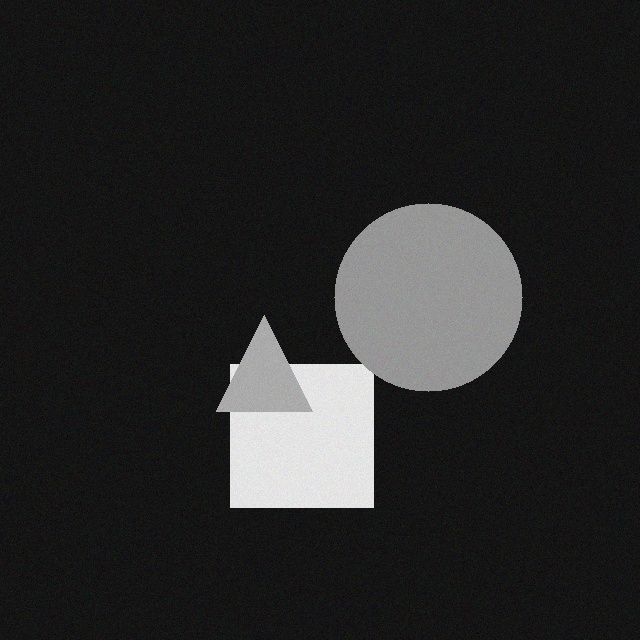circle: (348, 216, 536, 404)
square: (244, 377, 387, 520)
triangle: (230, 328, 326, 424)
